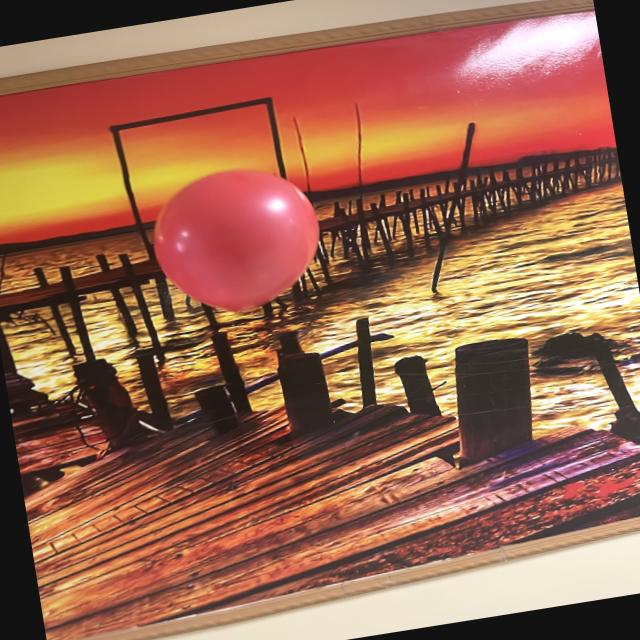balloon: (154, 170, 319, 311)
